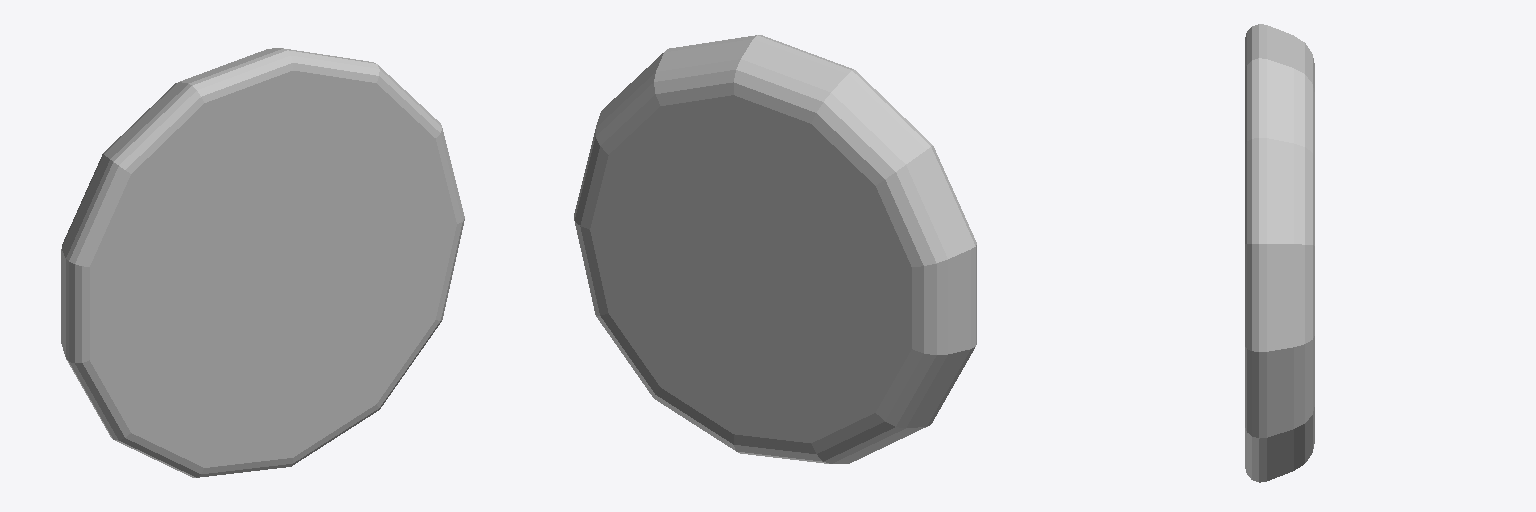
File: Pan 2 Hamburguesa.obj
3 renders of one model, left to right at view 1: azimuth 30°, elevation 25°; view 2: azimuth 150°, elevation 25°; view 3: azimuth 270°, elevation 25°, orthographic.
Visible parts, largest first — view 1: Pan_2_Hamburguesa; view 2: Pan_2_Hamburguesa; view 3: Pan_2_Hamburguesa.
Part boxes in pixels (bbox=[...]): Pan_2_Hamburguesa: bbox=[61, 48, 464, 477]; Pan_2_Hamburguesa: bbox=[574, 35, 976, 463]; Pan_2_Hamburguesa: bbox=[1245, 24, 1314, 482].
Bounding box in the file's own units: 32.41 × 32.65 × 5.